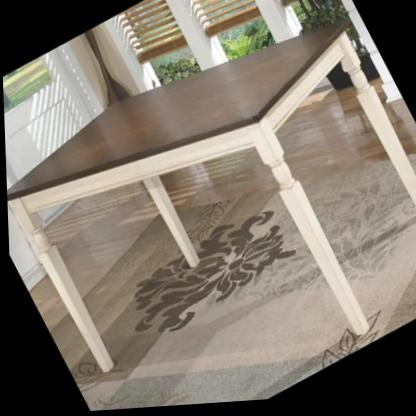Carpet: (97, 167, 416, 341)
Table: (0, 0, 416, 416)
Wooden floor: (42, 183, 159, 300), (275, 82, 389, 183)
